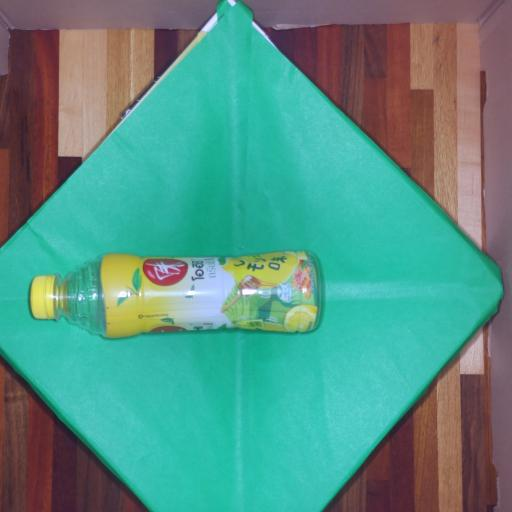bottle: (19, 249, 338, 346)
